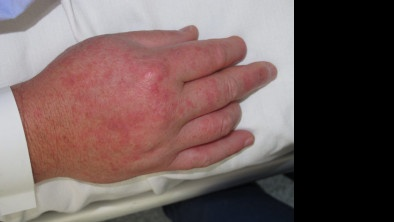SJS-TEN: (15, 23, 280, 186)
